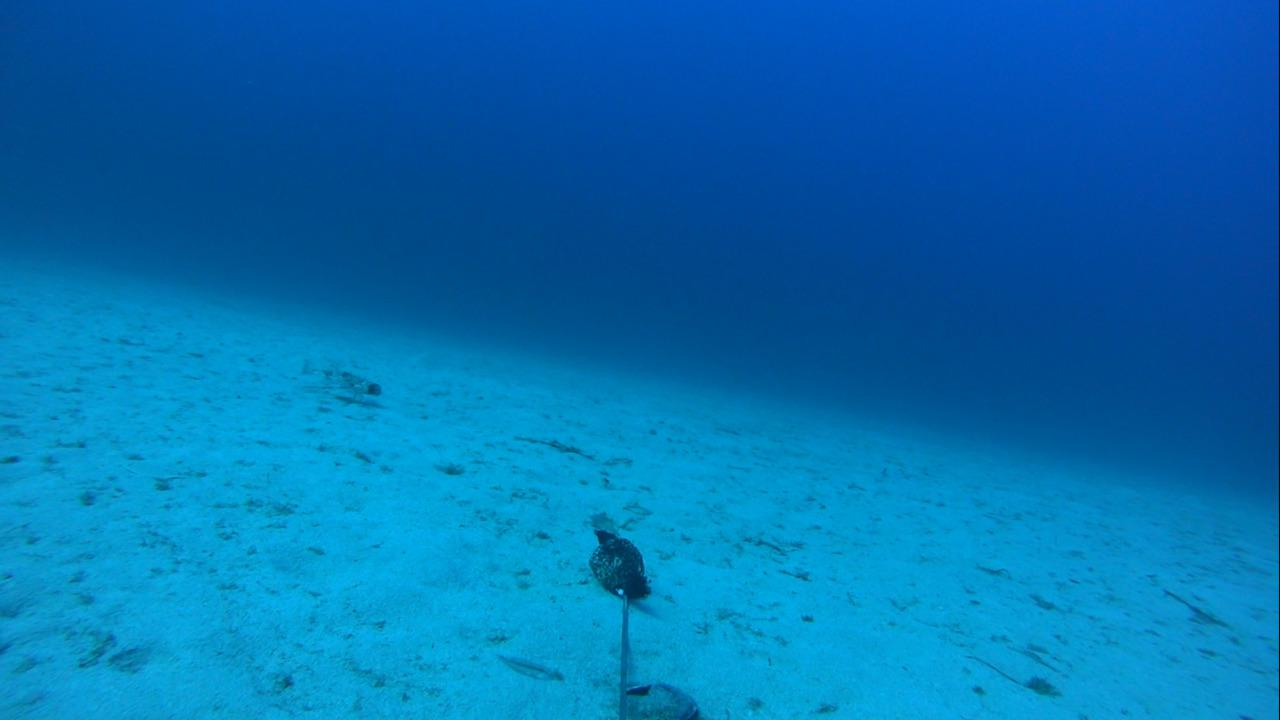dactylopterus: (281, 353, 387, 412)
